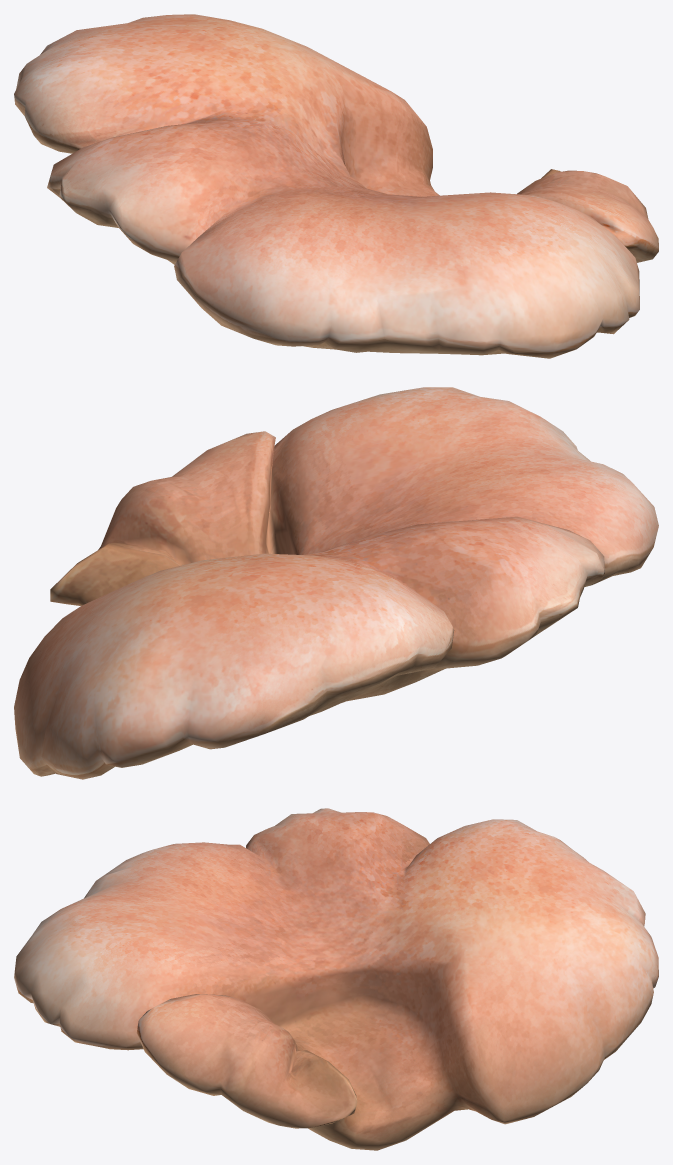
Rendered from 03_Mushroom.fbx.
3 renders of one model, top to bottom at view 1: azimuth 30°, elevation 25°; view 2: azimuth 150°, elevation 25°; view 3: azimuth 270°, elevation 25°, orthographic. The views are drawn at different scales.
Visible parts, largest first — view 1: tripo_node_f1c2bd32; view 2: tripo_node_f1c2bd32; view 3: tripo_node_f1c2bd32.
Part boxes in pixels (bbox=[...]): tripo_node_f1c2bd32: bbox=[14, 14, 658, 358]; tripo_node_f1c2bd32: bbox=[14, 387, 658, 779]; tripo_node_f1c2bd32: bbox=[14, 808, 658, 1150].
Bounding box in the file's own units: 73.35 × 100 × 35.26.
